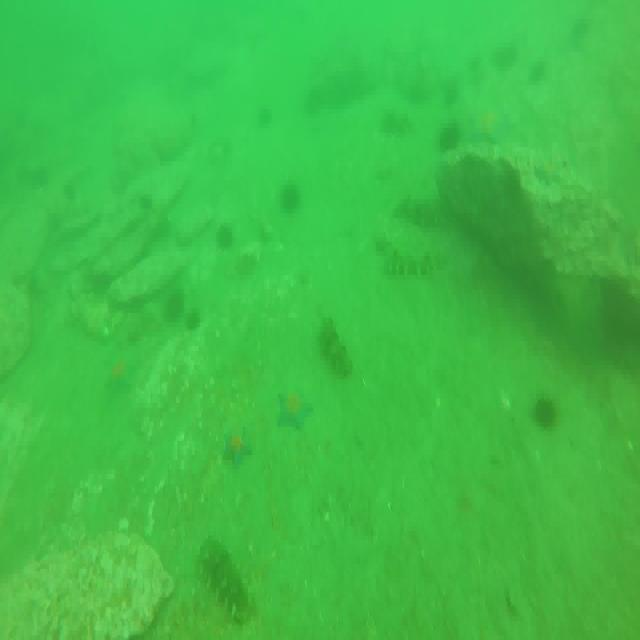echinus: (530, 397, 558, 426), (438, 120, 462, 153), (278, 184, 302, 214), (163, 290, 184, 320), (216, 220, 234, 250), (180, 309, 202, 331), (256, 104, 273, 132)
holothurian: (198, 540, 252, 622), (319, 316, 352, 378), (385, 244, 438, 279)
starfish: (468, 101, 512, 144), (277, 390, 314, 428), (103, 361, 140, 396), (225, 426, 252, 466)
